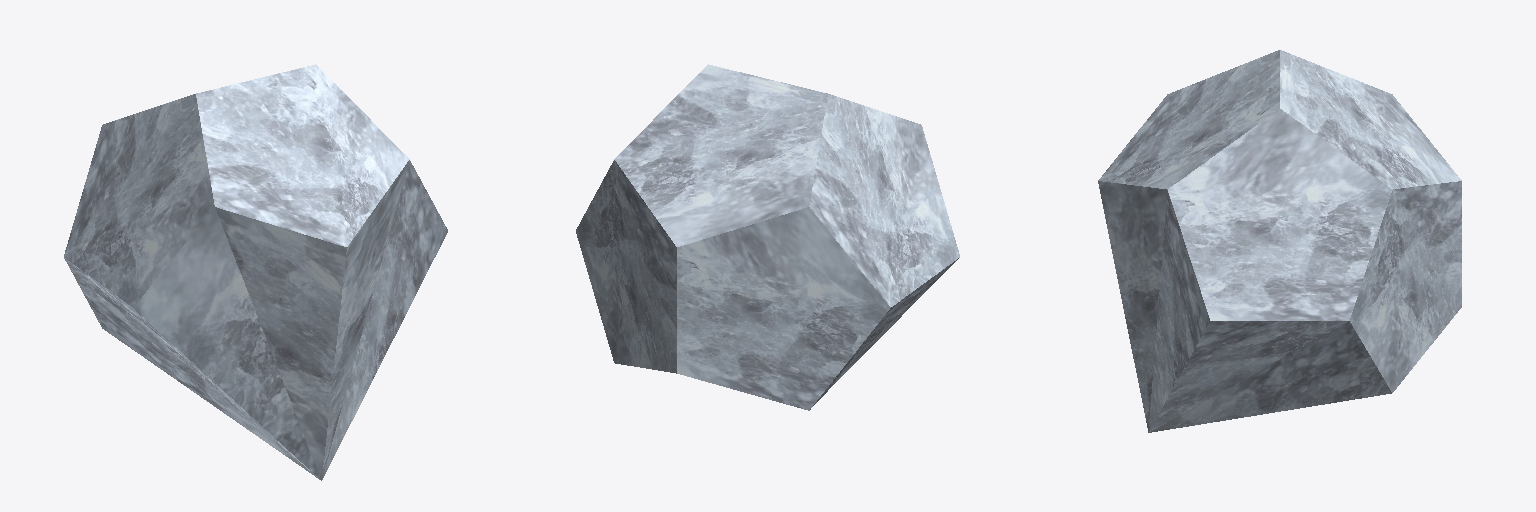
3 renders of one model, left to right at view 1: azimuth 30°, elevation 25°; view 2: azimuth 150°, elevation 25°; view 3: azimuth 270°, elevation 25°, orthographic.
Bounding box in the file's own units: 2.62 × 2.81 × 2.62.
Materials: 1 (1 with a texture image).